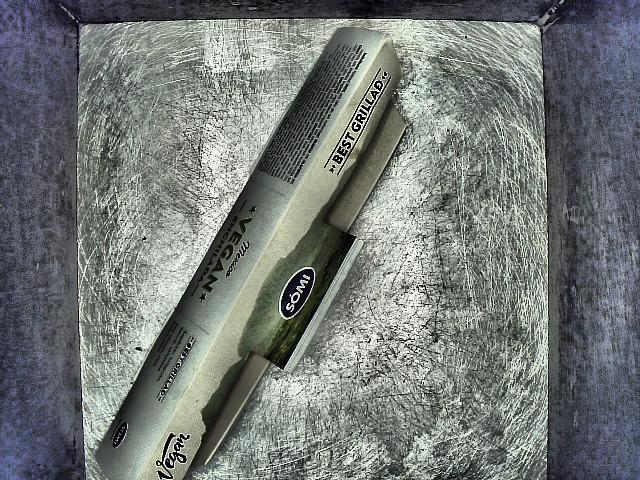Paper: (85, 12, 419, 480)
